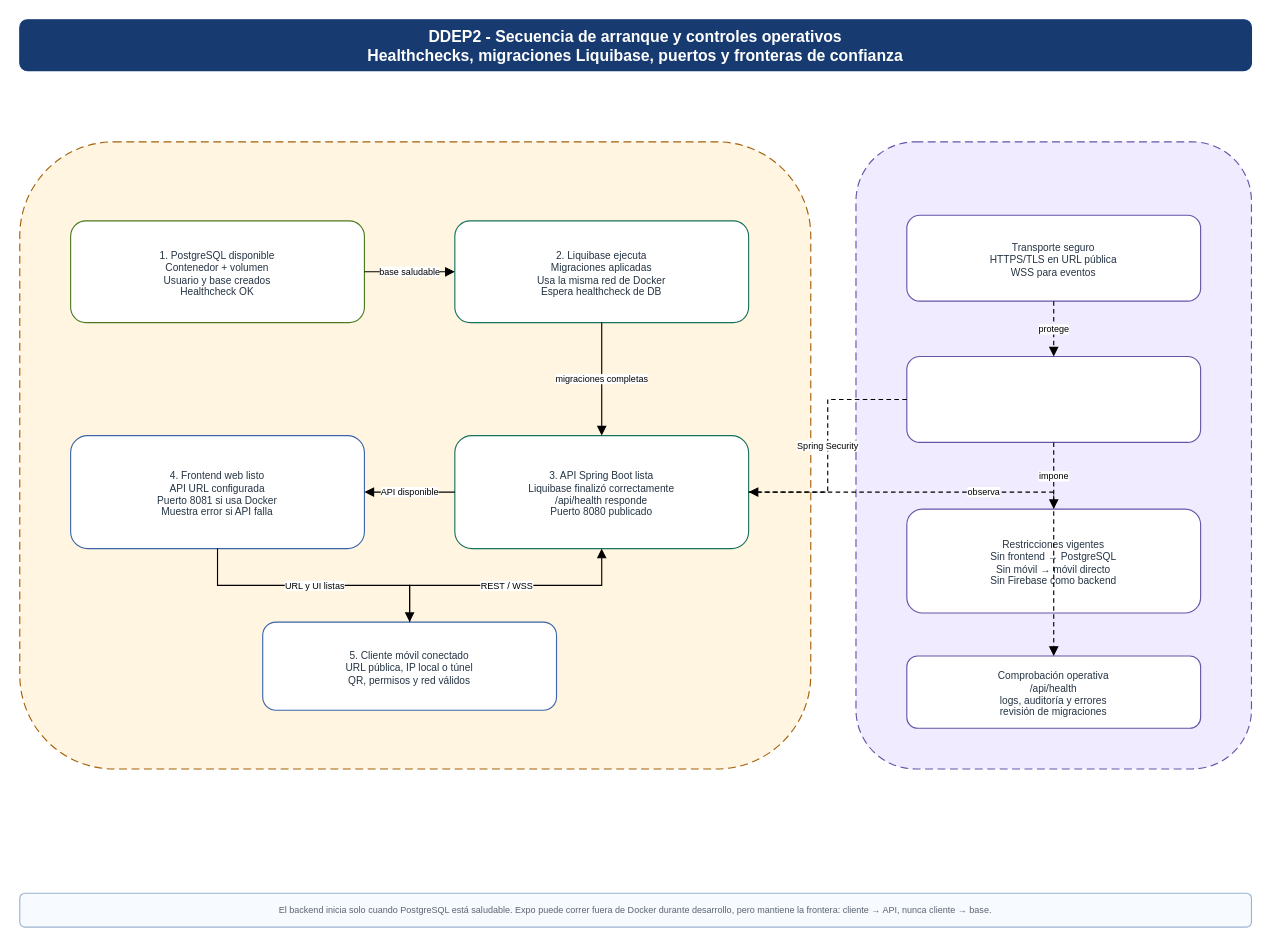
Image size: 1271x947. Some labels were removed from this diagram. Each missing label, with the box of its shape:
Fronteras y comprobaciones: (855, 141, 1251, 769)
Punto de confianza JWT, RBAC y pertenencia La API autoriza cada acción: (906, 355, 1201, 442)
Secuencia de disponibilidad: (19, 141, 811, 769)
